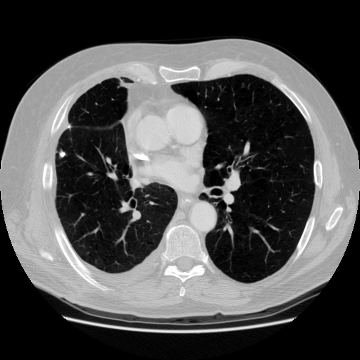nodule: (59, 151, 65, 157)
